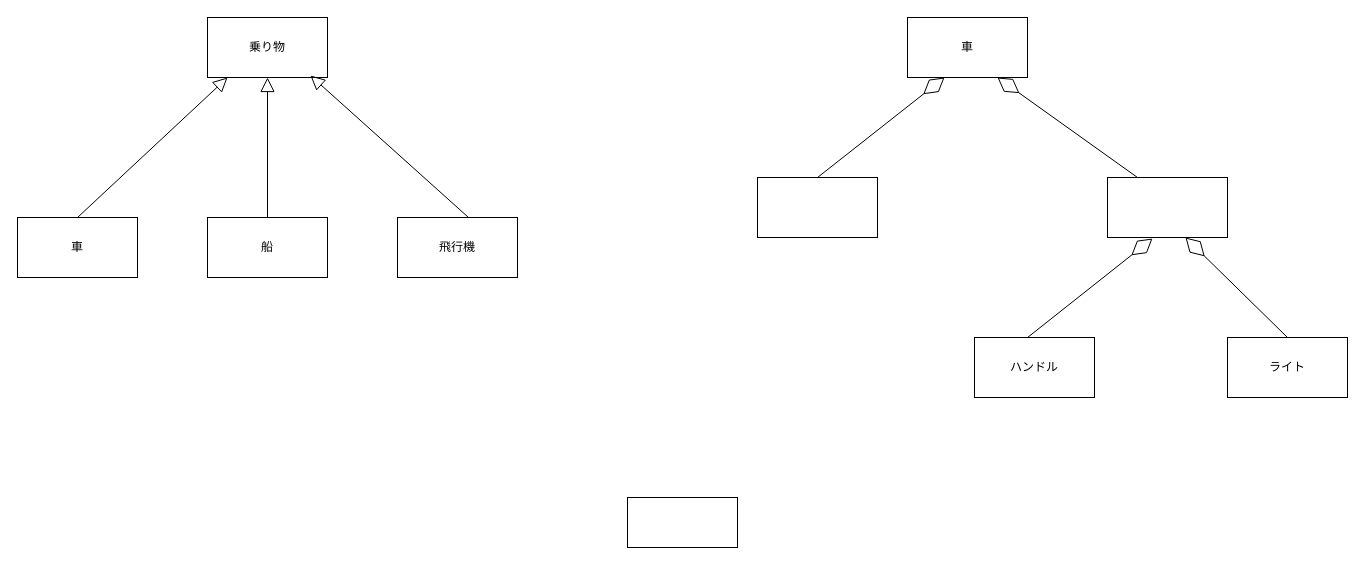
This 1365x565 diagram has some shape labels left out. The shapes that lost their labels are listed below. From the top down, each one's centre as x and y in pixels, then its label:
At point 817,207: "エンジン".
At point 1167,207: "ボディ".
At point 682,522: "図書カード".
